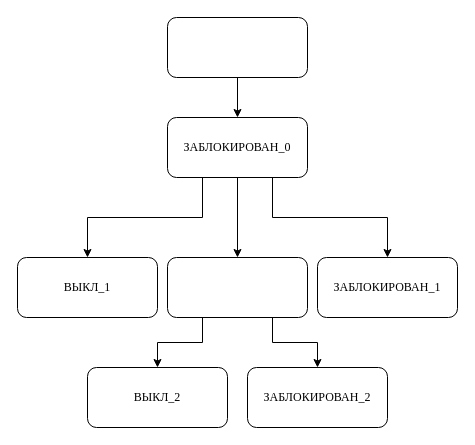
Image size: 475x445. Some labels were removed from this diagram. The shapes that lost their labels are listed below. From the top down, each one's centre as x and y in pixels, then its label:
[237,47]: ВЫКЛ_0
[237,287]: РАЗБЛОКИРОВАН_0
